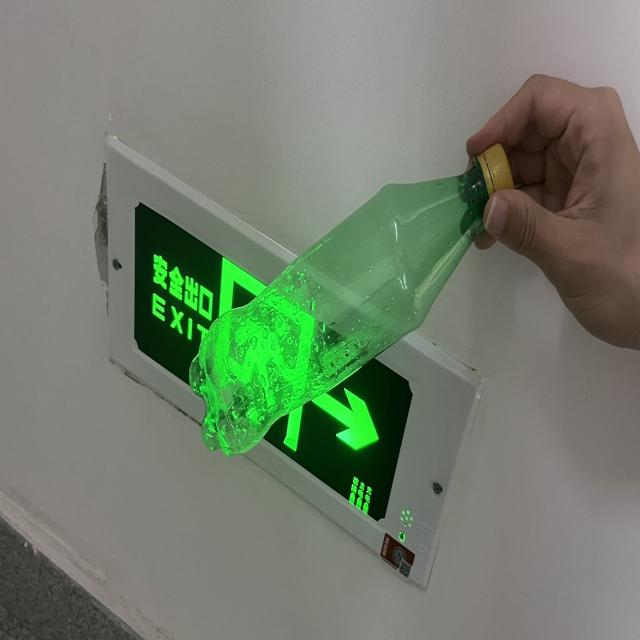empty: (190, 146, 510, 454)
